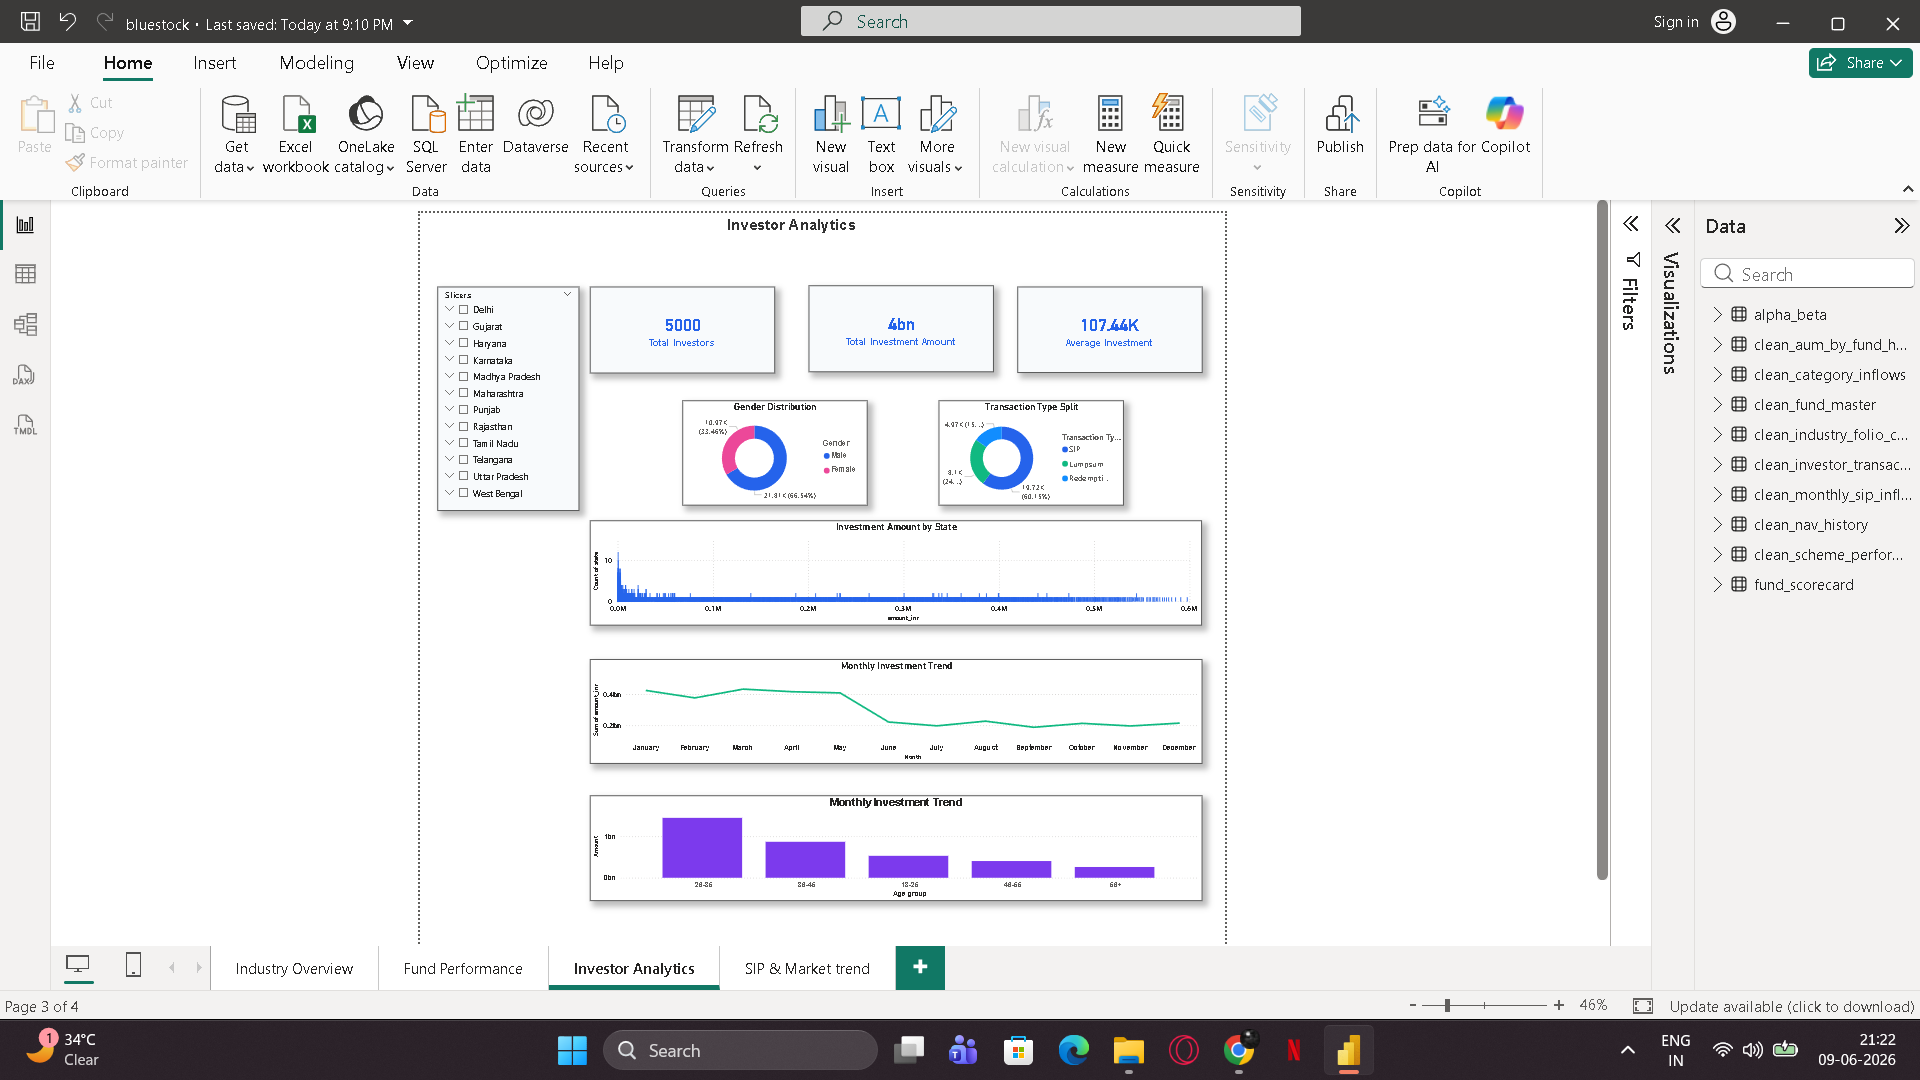

The dashboard page shown, as its layout file describes it:
{"tool":"powerbi","page":{"name":"Investor Analytics","canvas":[1400,1400],"ordinal":2},"visuals":[{"type":"textbox","box":[10.3,0,1269.2,64.1],"z":0},{"type":"card","fields":{"Values":["Count(clean_investor_transactions.investor_id)"]},"box":[294.9,128.2,321.8,150],"z":1000},{"type":"card","fields":{"Values":["Sum(clean_investor_transactions.amount_inr)"]},"box":[676.9,126.9,321.8,150],"z":2000},{"type":"card","fields":{"Values":["Avg(clean_investor_transactions.amount_inr)"]},"box":[1078.2,126.9,321.8,150],"z":3000},{"type":"donutChart","title":"Gender Distribution","fields":{"Category":["clean_investor_transactions.gender"],"Y":["CountNonNull(clean_investor_transactions.investor_id)"]},"box":[456.4,325.6,321.8,182.1],"z":4000},{"type":"donutChart","title":"Transaction Type Split","fields":{"Category":["clean_investor_transactions.transaction_type"],"Y":["CountNonNull(clean_investor_transactions.investor_id)"]},"box":[902.6,325.6,321.8,182.1],"z":5000},{"type":"clusteredColumnChart","title":"Investment Amount by State","fields":{"Category":["clean_investor_transactions.amount_inr"],"Y":["Count(clean_investor_transactions.state)"]},"box":[294.9,534.6,1064.1,182.1],"z":6000},{"type":"lineChart","title":"Monthly Investment Trend","fields":{"Category":["clean_investor_transactions.transaction_date.Variation.Date Hierarchy.Month"],"Y":["Sum(clean_investor_transactions.amount_inr)"]},"box":[294.9,776.9,1105.1,182.1],"z":7000},{"type":"clusteredColumnChart","title":"Monthly Investment Trend","fields":{"Y":["Sum(clean_investor_transactions.amount_inr)"],"Category":["clean_investor_transactions.age_group"]},"box":[294.9,1012.8,1105.1,182.1],"z":8000},{"type":"slicer","fields":{"Values":["clean_investor_transactions.state","clean_investor_transactions.gender","clean_investor_transactions.city_tier","clean_investor_transactions.transaction_type"]},"box":[29.5,128.2,246.2,389.7],"z":9000}]}

Visuals, with their boxes on the page's 1400x1400 design canvas (x1, y1, x2, y2). These are canvas units, not pixel positions in the 1920x1080 screenshot, which may show the page scaled, cropped or inside an application window:
textbox: bbox=(10, 0, 1280, 64)
card - Count(clean_investor_transactions.investor_id): bbox=(295, 128, 617, 278)
card - Sum(clean_investor_transactions.amount_inr): bbox=(677, 127, 999, 277)
card - Avg(clean_investor_transactions.amount_inr): bbox=(1078, 127, 1400, 277)
"Gender Distribution" donutChart: bbox=(456, 326, 778, 508)
"Transaction Type Split" donutChart: bbox=(903, 326, 1224, 508)
"Investment Amount by State" clusteredColumnChart: bbox=(295, 535, 1359, 717)
"Monthly Investment Trend" lineChart: bbox=(295, 777, 1400, 959)
"Monthly Investment Trend" clusteredColumnChart: bbox=(295, 1013, 1400, 1195)
slicer - clean_investor_transactions.state x clean_investor_transactions.gender: bbox=(30, 128, 276, 518)
